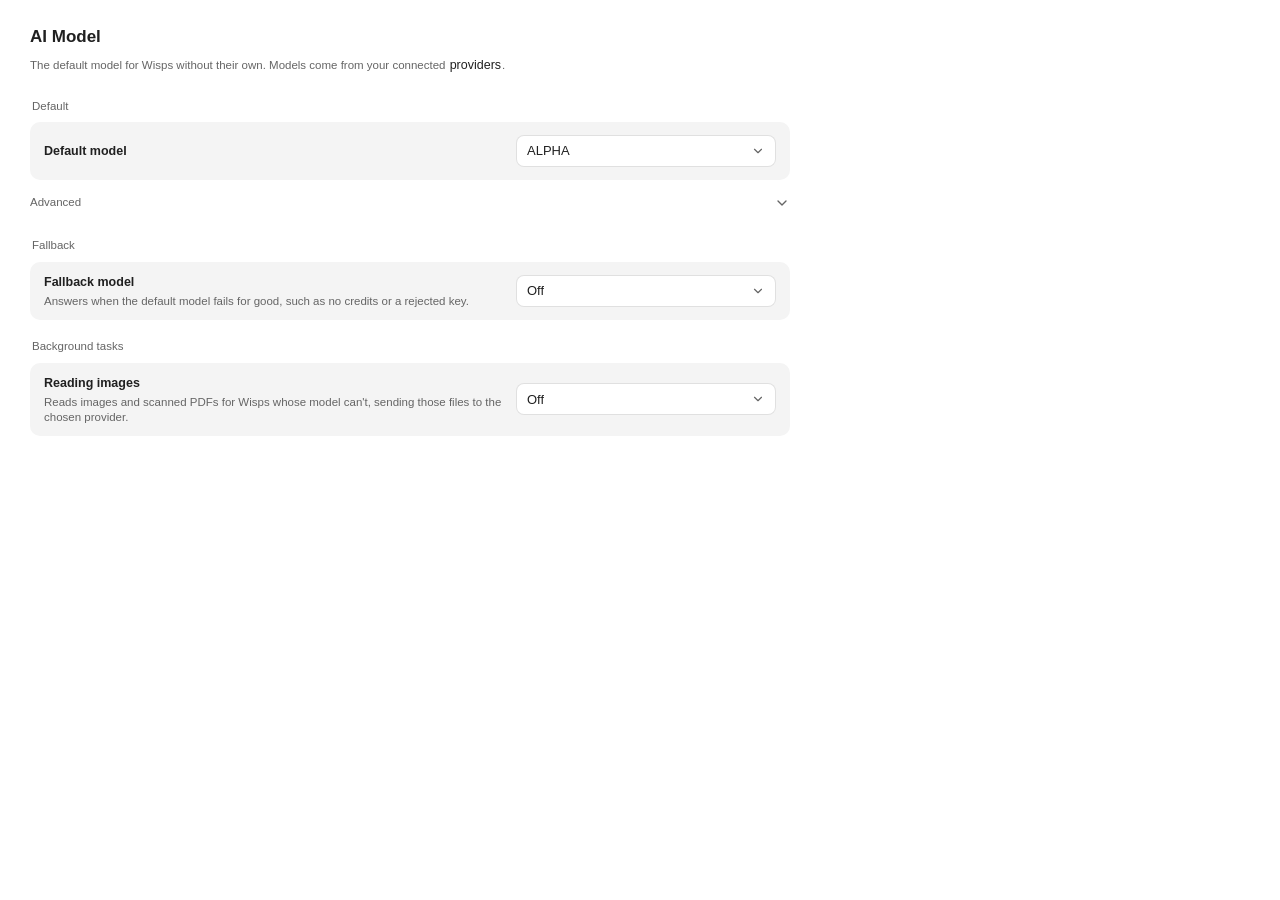
ModelSettingsSection › lists models across connected providers and saves the choice at once
Click the dropdown named "Default model".
click(548, 151)  # box 516,135 -> 776,167
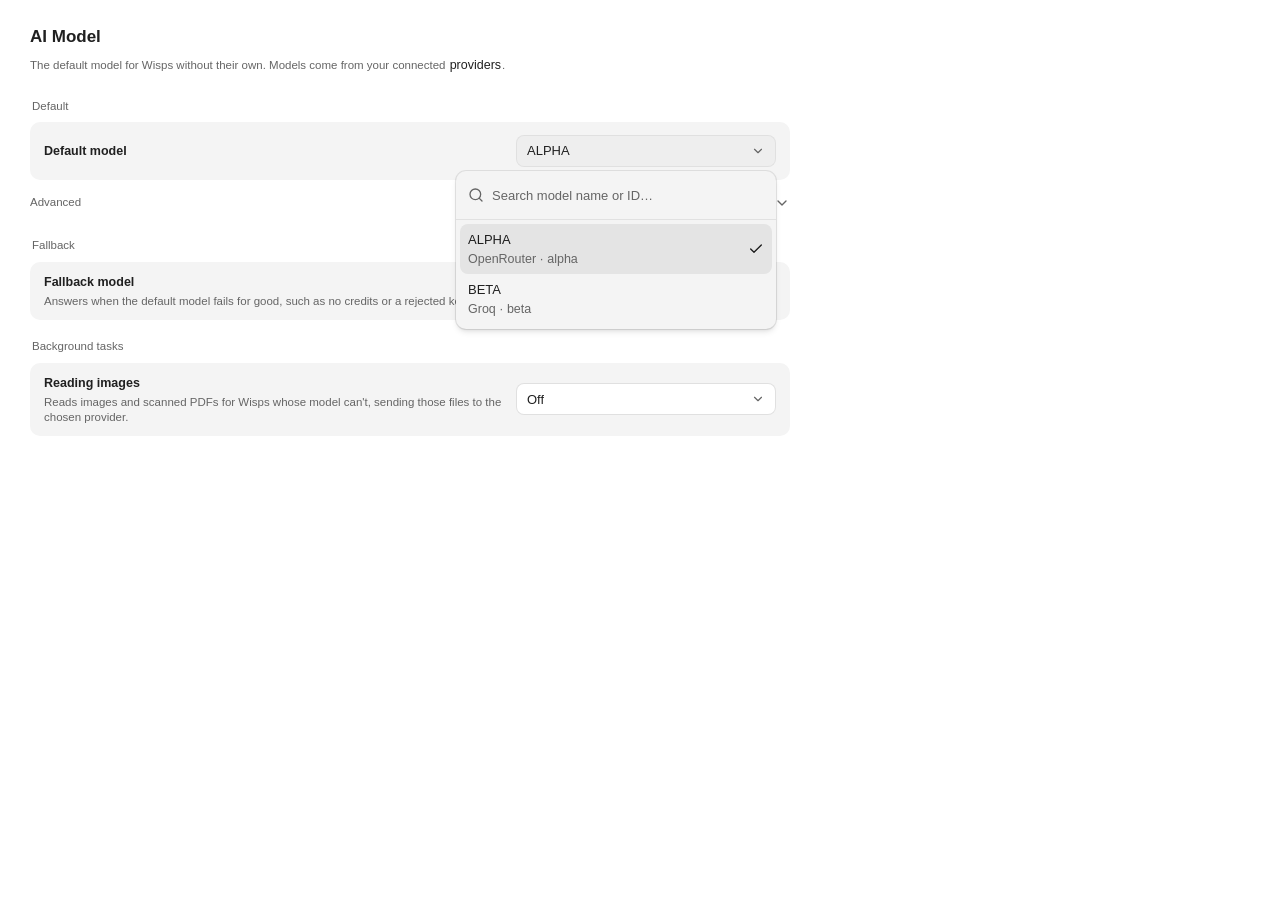
Now the option "ALPHA OpenRouter · alpha" is shown, box 460,224 -> 772,274
Click the option "BETA Groq · beta".
click(500, 299)  # box 468,282 -> 531,316
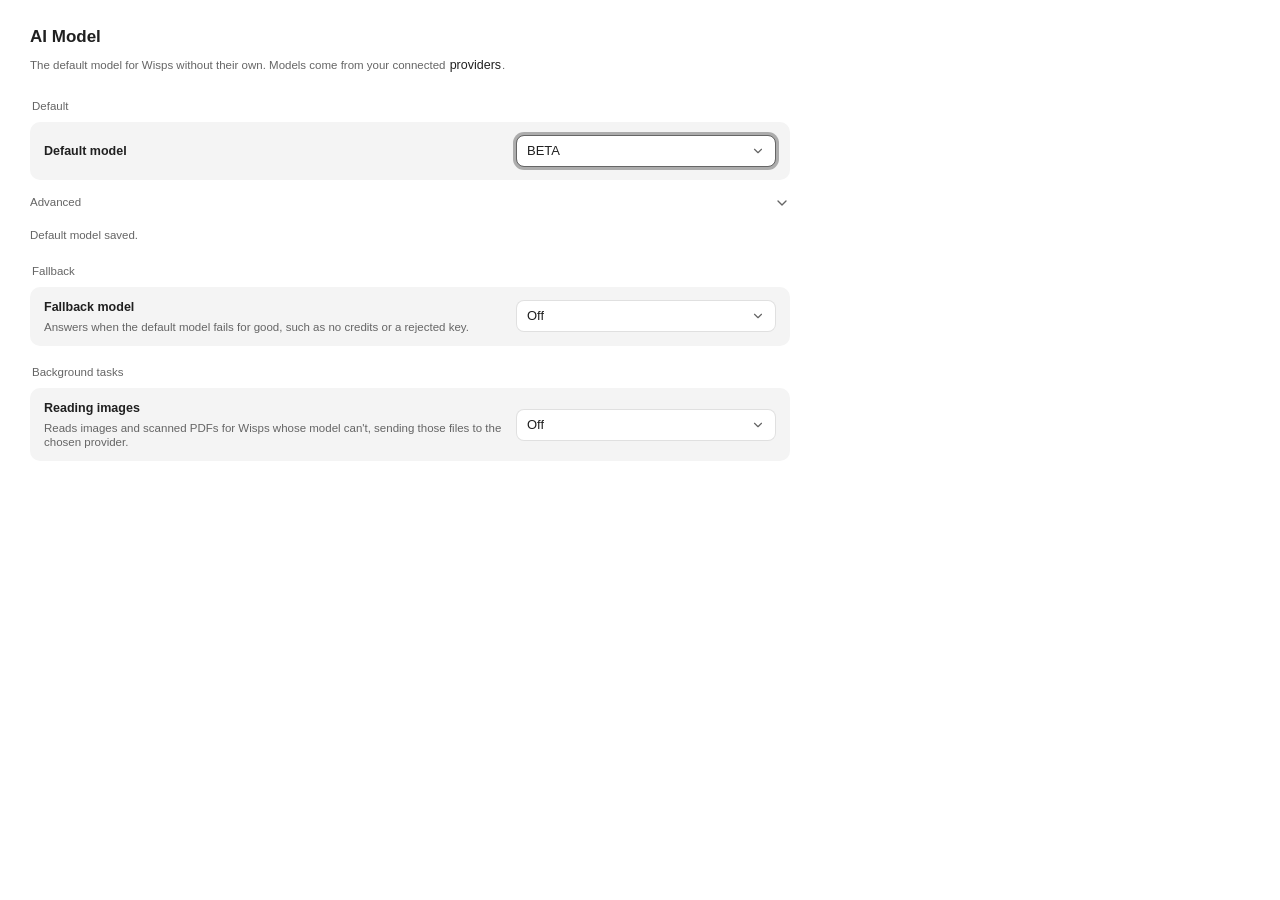
Now the text "Default model saved." is shown, box 30,229 -> 138,241
